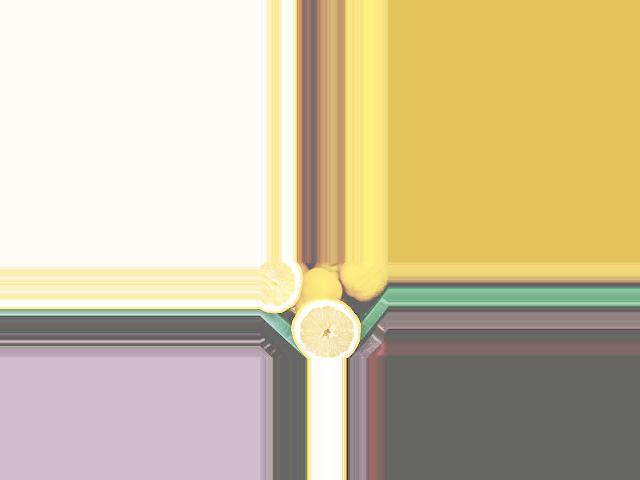lemon: (294, 265, 341, 309)
